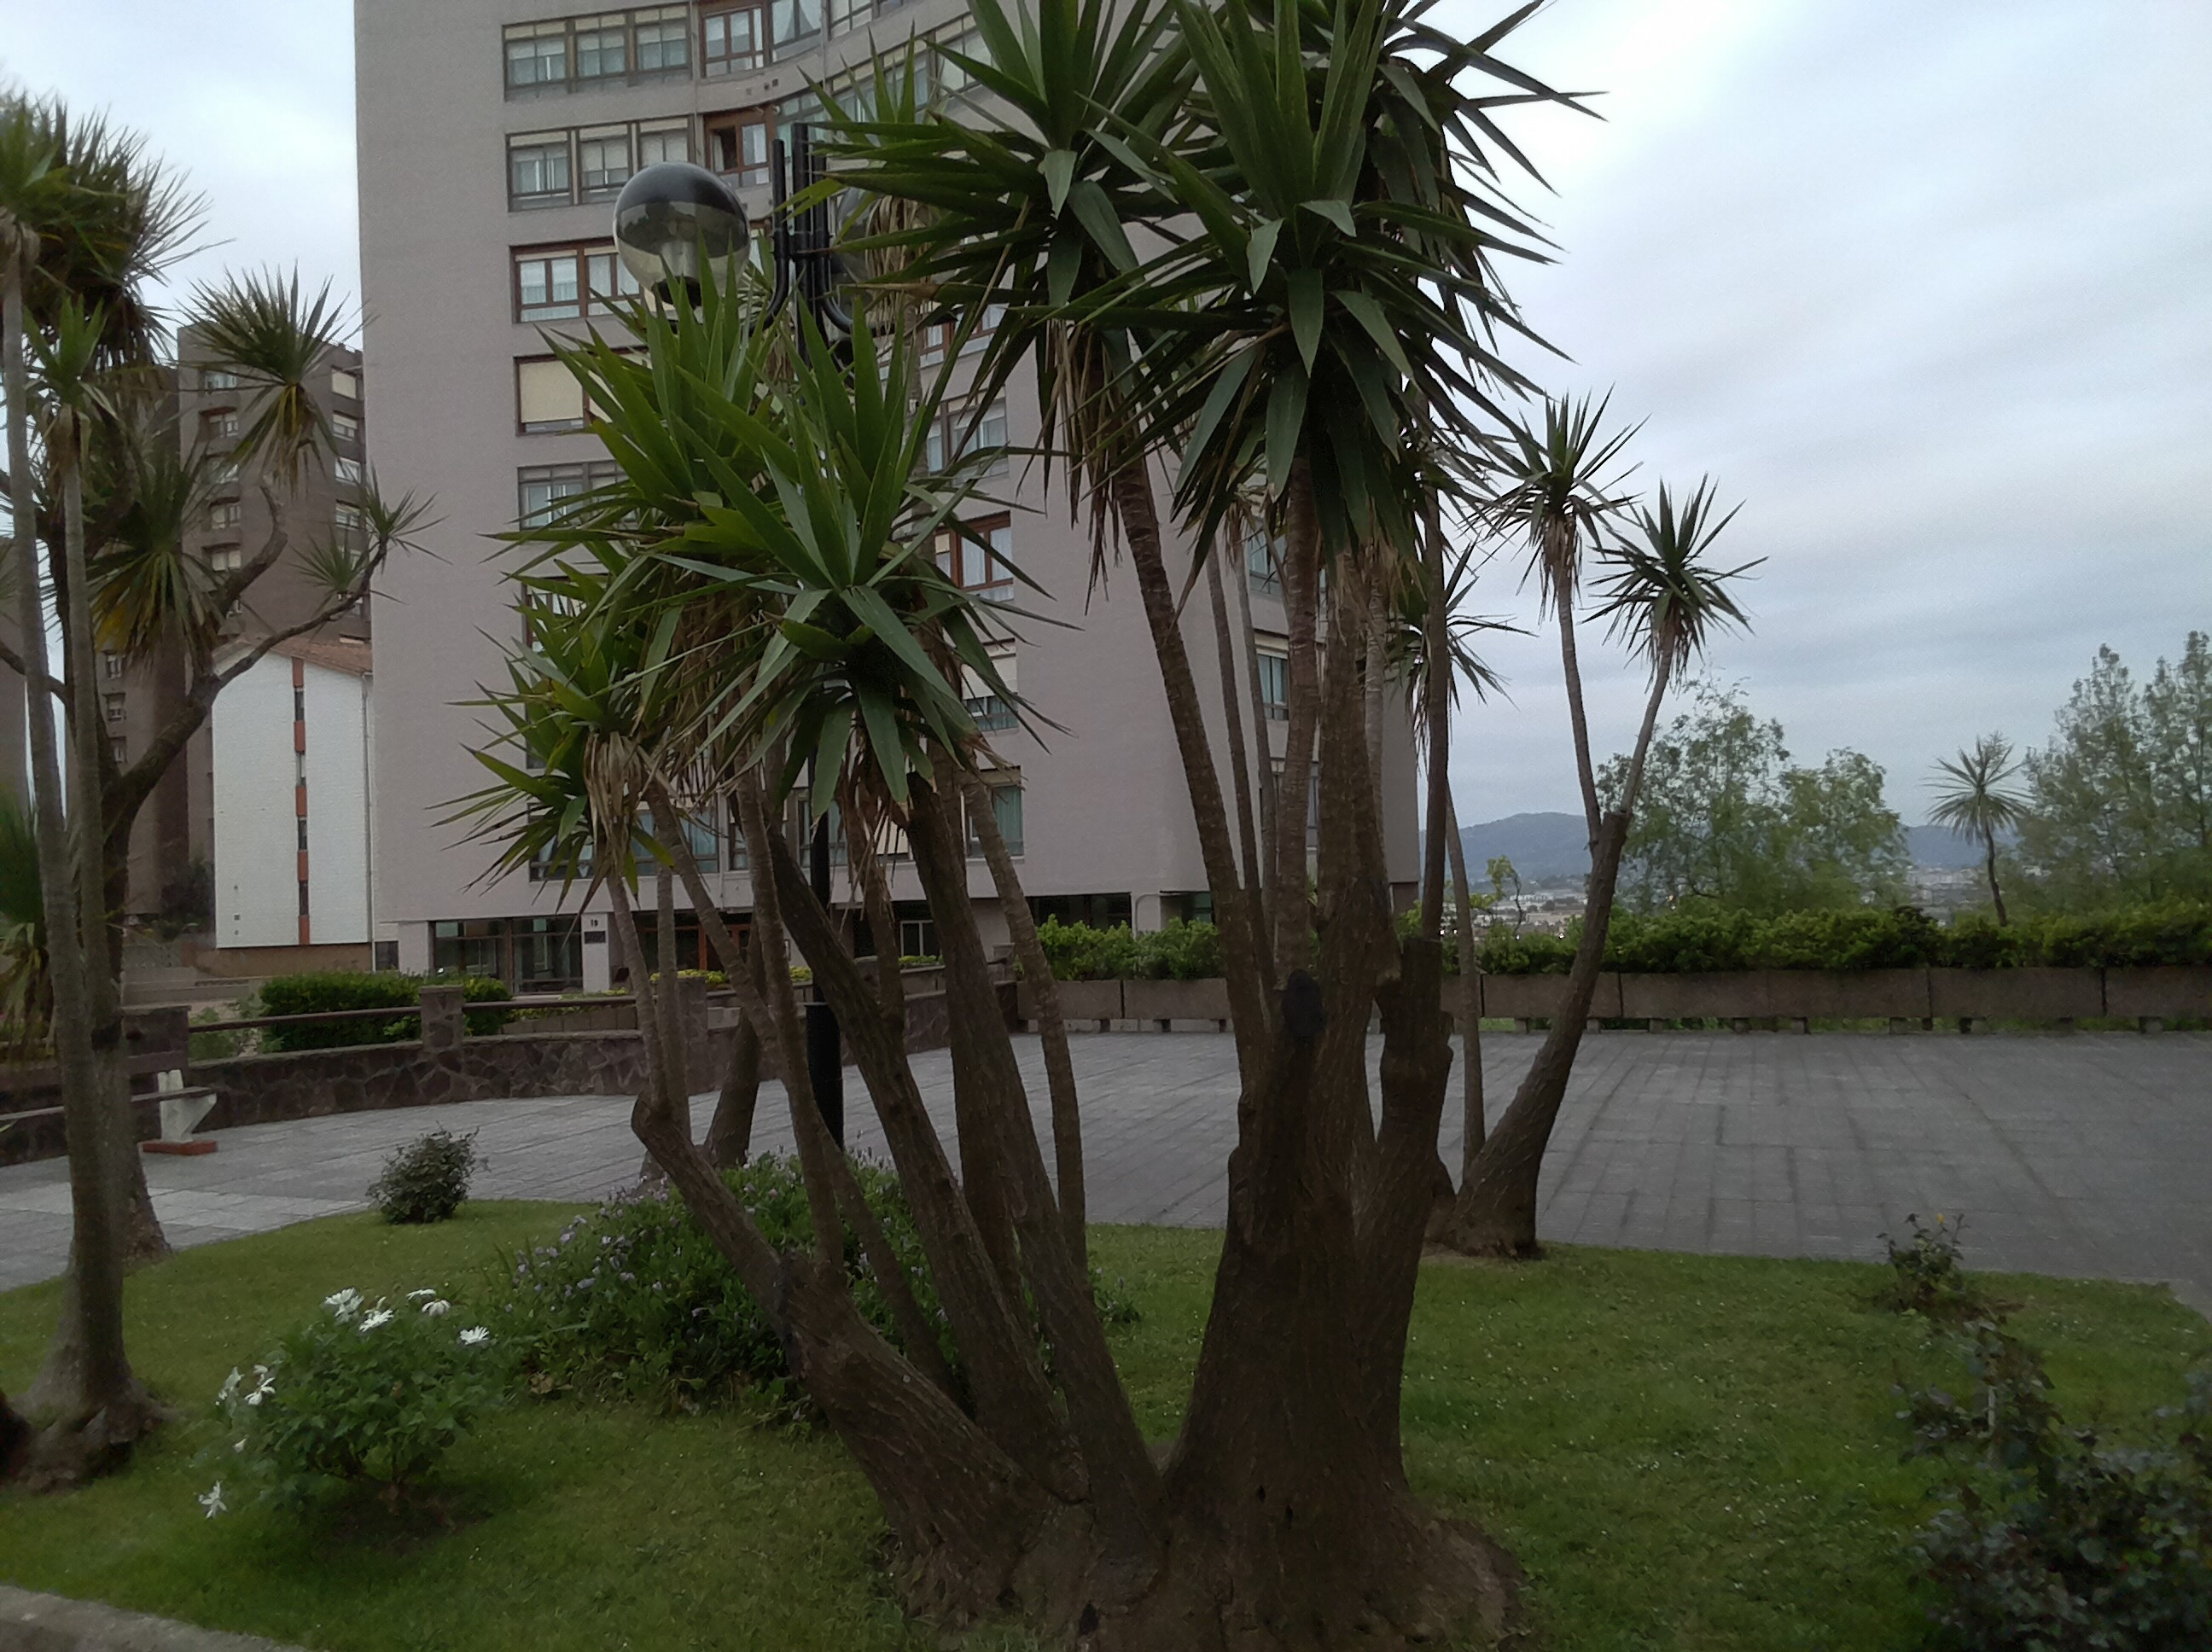Arbol: (512, 0, 1549, 1635), (0, 108, 231, 1503)
